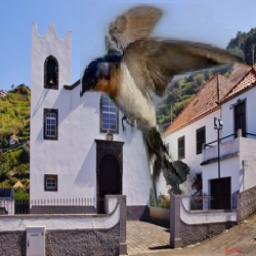Swallow: (81, 4, 246, 212)
